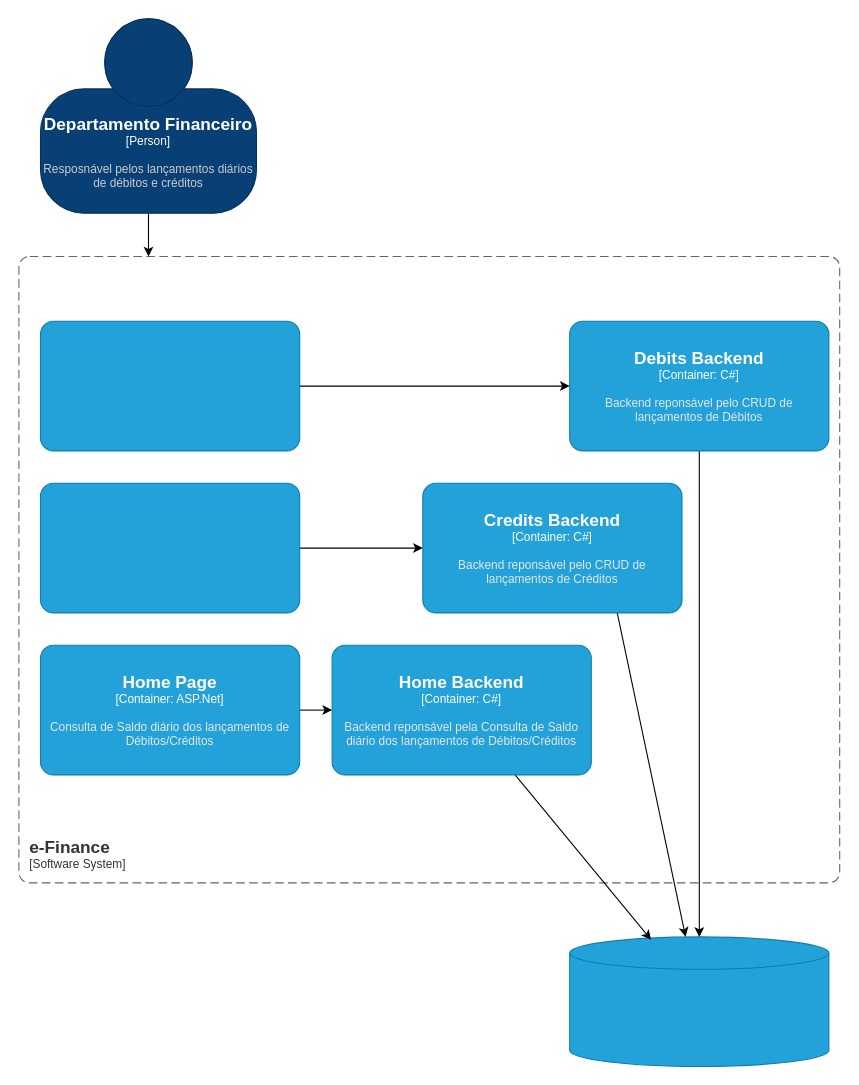
The diagram is 859 pixels wide and 1085 high, and some of its shapes have lost their labels. Each missing label, with the box of its shape:
Credits Pages [Container: ASP.Net] Páginas para CRUD de lançamentos de Créditos: (39, 482, 300, 613)
Debits Pages [Container: ASP.Net] Páginas para CRUD de lançamentos de Débitos: (39, 320, 300, 451)
FinanceDb [Container: SQL Server Express] Base de Dados Relacinal: (569, 936, 829, 1066)
